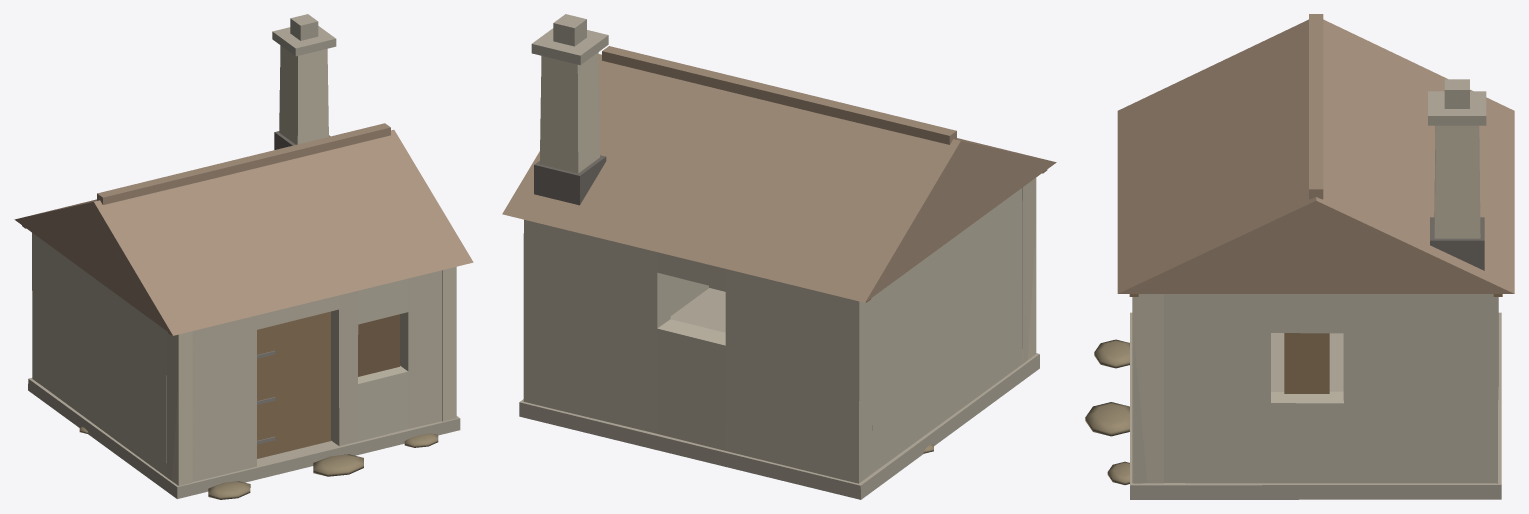
The model's file is goldsmith_shop_shell.glb.
The picture shows the model from 3 angles, left to right: view 1: azimuth 30°, elevation 25°; view 2: azimuth 150°, elevation 25°; view 3: azimuth 270°, elevation 25°; orthographic projection. The views are drawn at different scales.
Visible parts, largest first — view 1: Shop_Walls, Shop_RoofGroup, Shop_Wood, Shop_ChimneyGroup, Shop_Mud; view 2: Shop_Walls, Shop_RoofGroup, Shop_ChimneyGroup; view 3: Shop_RoofGroup, Shop_Walls, Shop_ChimneyGroup, Shop_Wood, Shop_Mud.
Part boxes in pixels (<box>): Shop_Walls: <box>28,233,460,498</box>; Shop_RoofGroup: <box>14,123,473,335</box>; Shop_Wood: <box>257,311,399,458</box>; Shop_ChimneyGroup: <box>272,14,336,149</box>; Shop_Mud: <box>79,426,438,499</box>; Shop_Walls: <box>519,178,1039,499</box>; Shop_RoofGroup: <box>502,46,1056,302</box>; Shop_ChimneyGroup: <box>531,14,608,205</box>; Shop_RoofGroup: <box>1117,14,1514,296</box>; Shop_Walls: <box>1130,294,1501,499</box>; Shop_ChimneyGroup: <box>1428,79,1486,270</box>; Shop_Wood: <box>1284,333,1329,393</box>; Shop_Mud: <box>1085,339,1129,484</box>.
Bounding box in the file's own units: 4.76 × 4.85 × 4.72.
